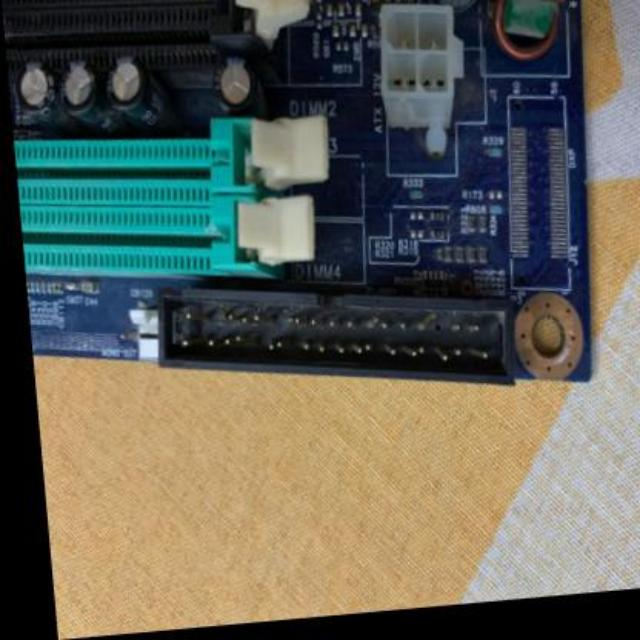PCB: (6, 0, 608, 386)
